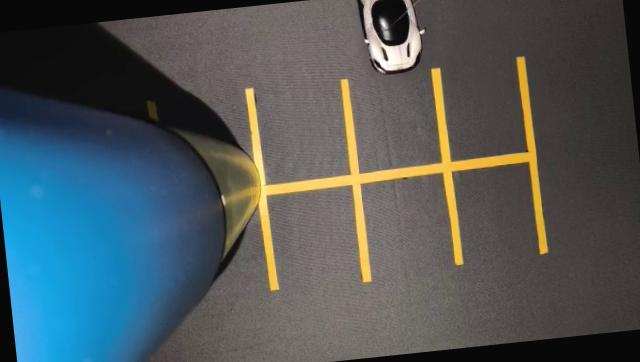toy_car: (328, 0, 451, 91)
